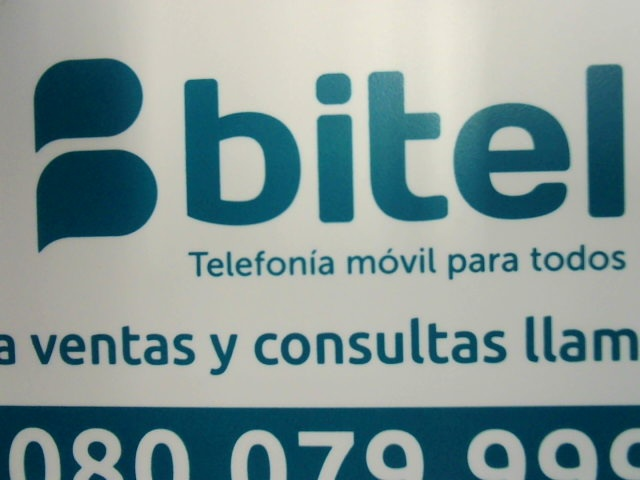BE_bitel: (24, 51, 631, 252)
